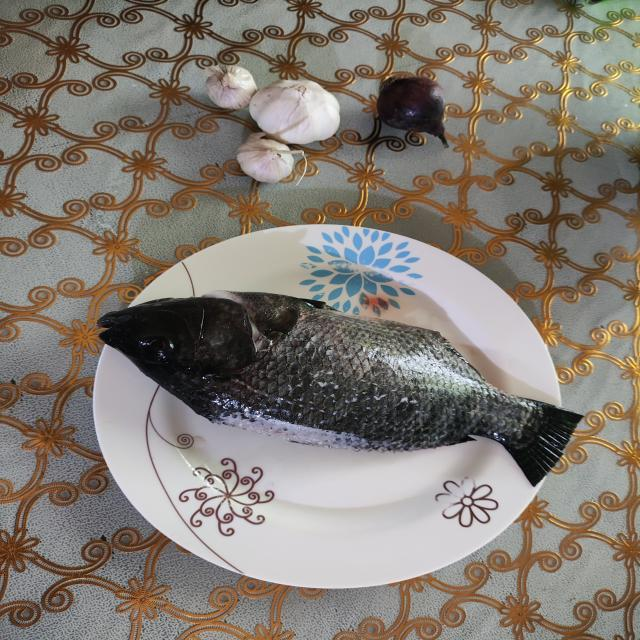fish: (100, 285, 583, 487)
garlic: (203, 63, 337, 186)
onion: (378, 78, 448, 143)
